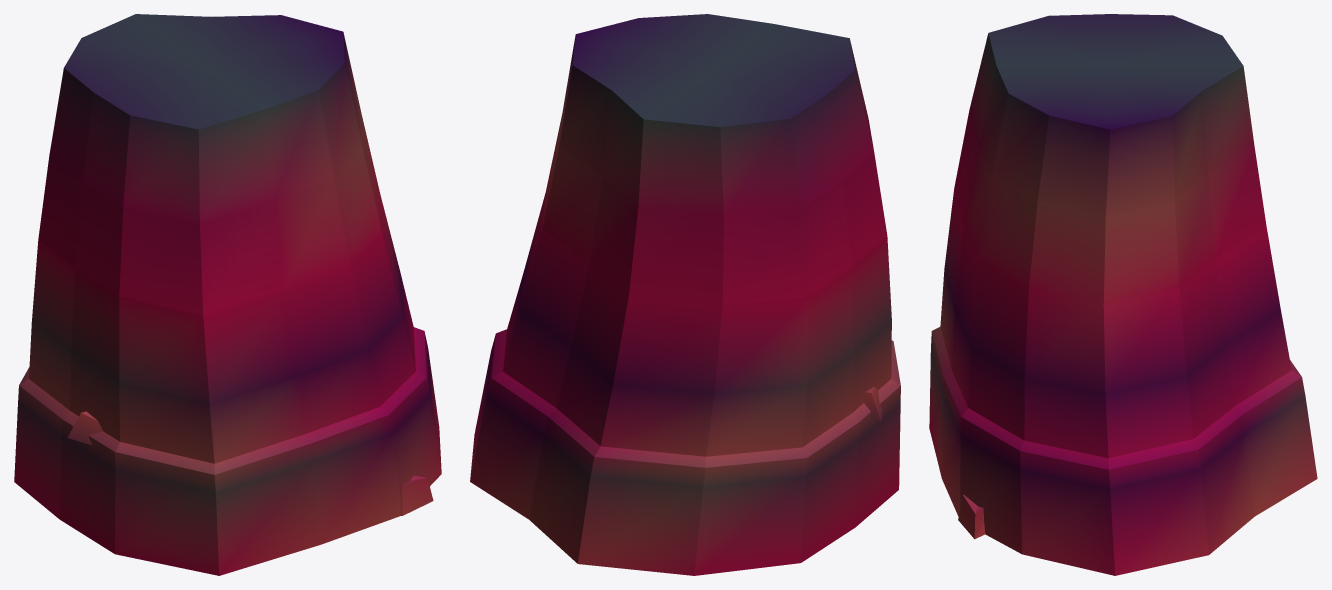
File: SM_CinderCanyon_Rock_B_LOD2.fbx
3 views of the same model, side by side, from view 1: azimuth 30°, elevation 25°; view 2: azimuth 150°, elevation 25°; view 3: azimuth 270°, elevation 25° (orthographic). The views are drawn at different scales.
Visible parts, largest first — view 1: SM_CinderCanyon_Rock_B_LOD2; view 2: SM_CinderCanyon_Rock_B_LOD2; view 3: SM_CinderCanyon_Rock_B_LOD2.
Part boxes in pixels (x1,y1,x2,y2): SM_CinderCanyon_Rock_B_LOD2: (14, 14, 441, 575); SM_CinderCanyon_Rock_B_LOD2: (470, 14, 900, 575); SM_CinderCanyon_Rock_B_LOD2: (929, 14, 1317, 575).
Bounding box in the file's own units: 100 × 91 × 104.
